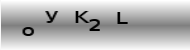2: (87, 18, 101, 32)
K: (74, 9, 89, 24)
L: (115, 10, 129, 25)
o: (21, 26, 37, 36)
y: (44, 9, 59, 25)
